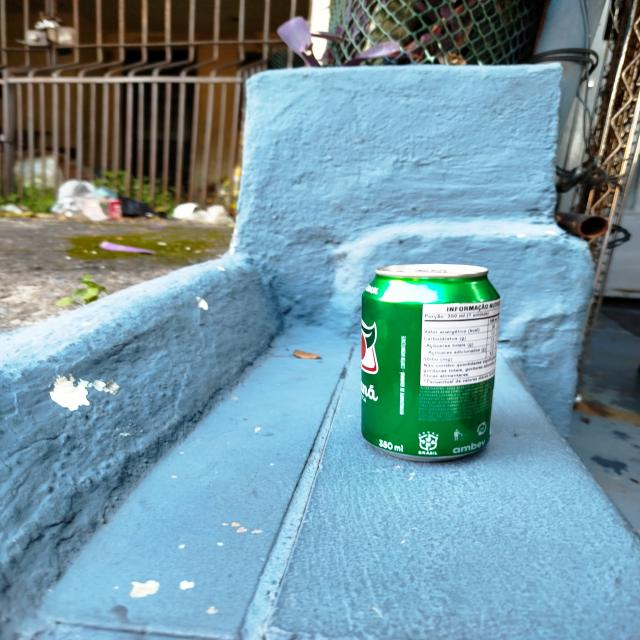Guarana: (359, 265, 495, 461)
